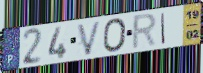2: (22, 26, 44, 69)
4: (47, 24, 68, 61)
I: (160, 12, 166, 45)
O: (103, 17, 128, 54)
R: (131, 12, 159, 52)
V: (76, 20, 103, 57)
